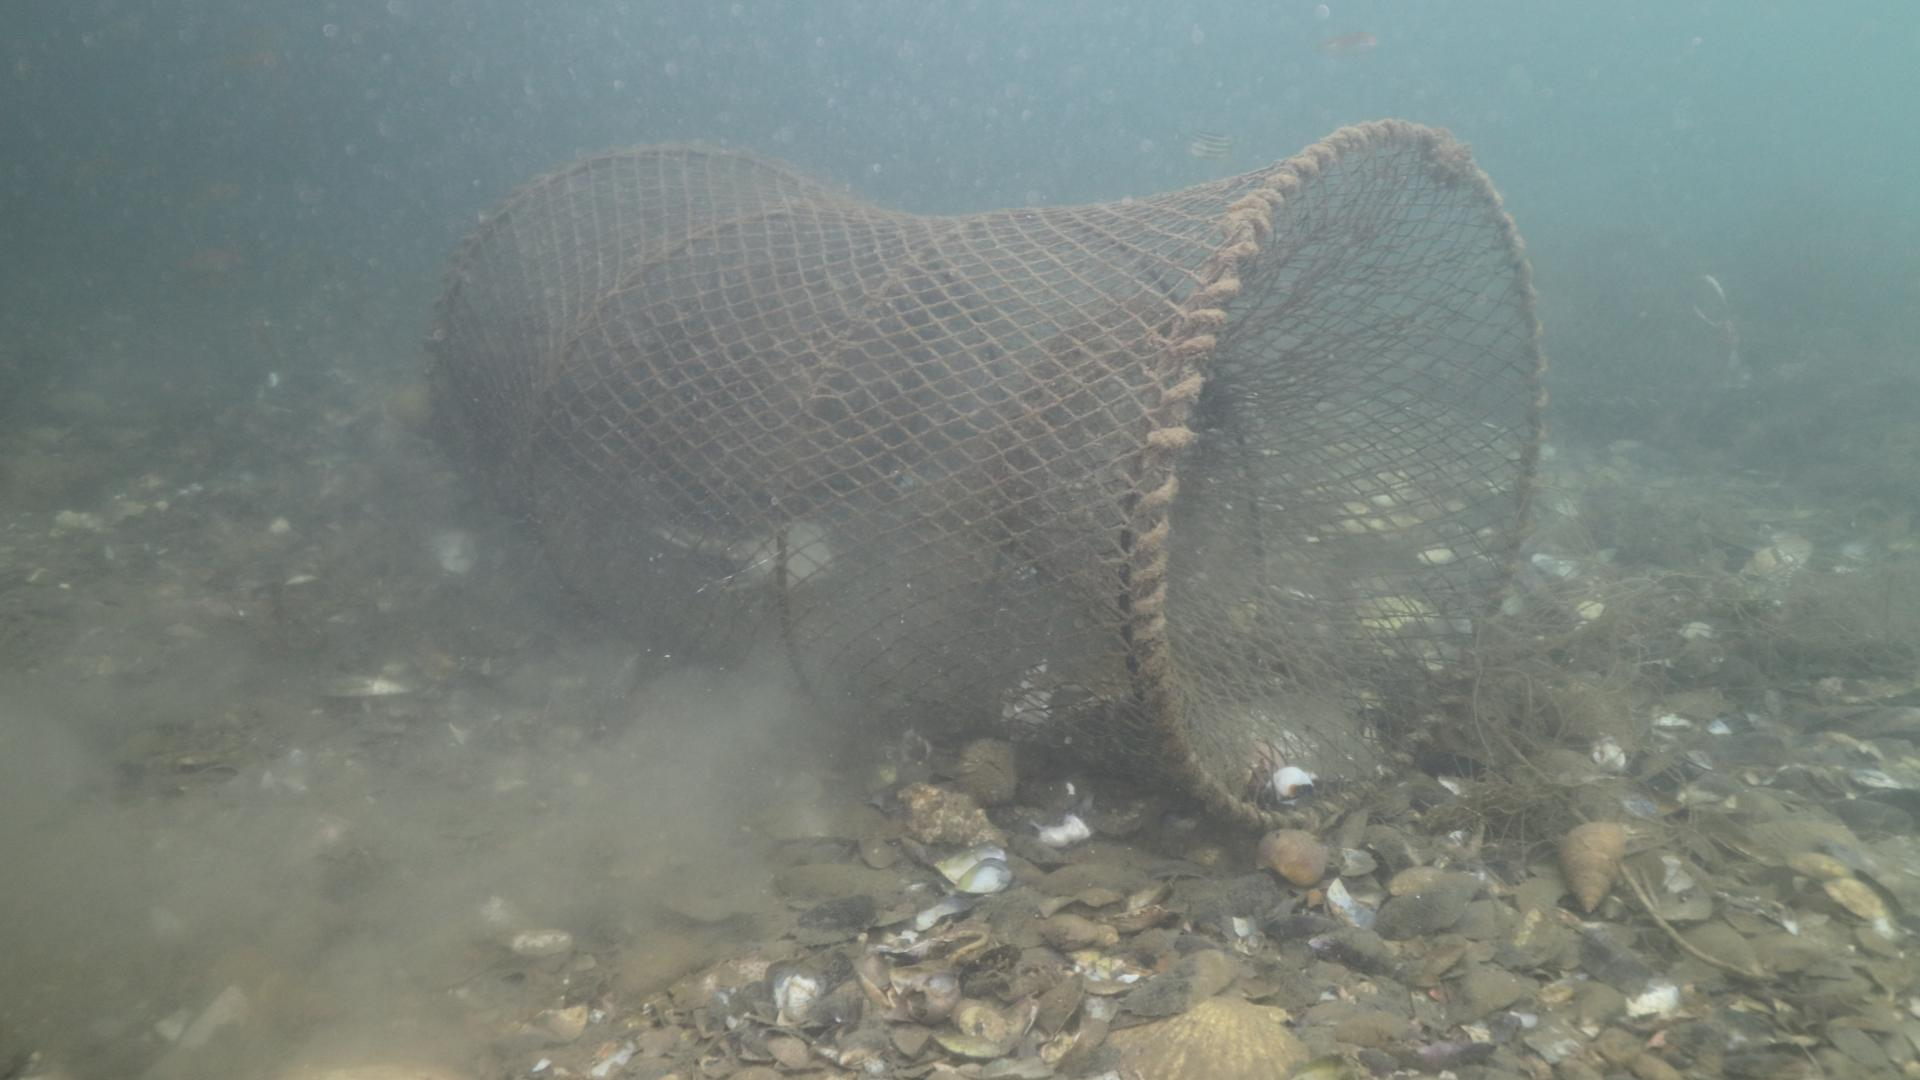spring fish trap: (430, 119, 1547, 839)
